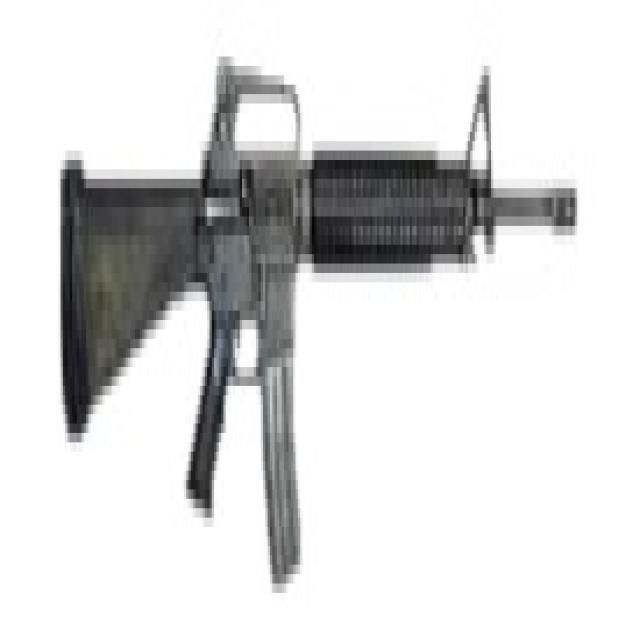rifle: (56, 40, 582, 603)
